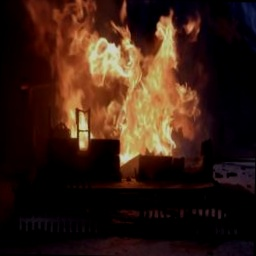fire: (17, 0, 213, 171)
